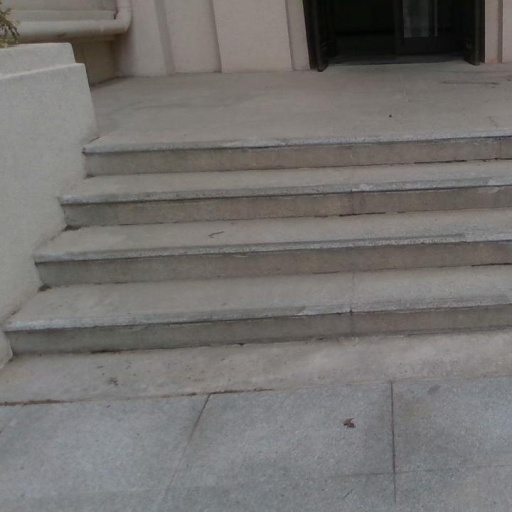Stairs: (0, 136, 512, 512)
